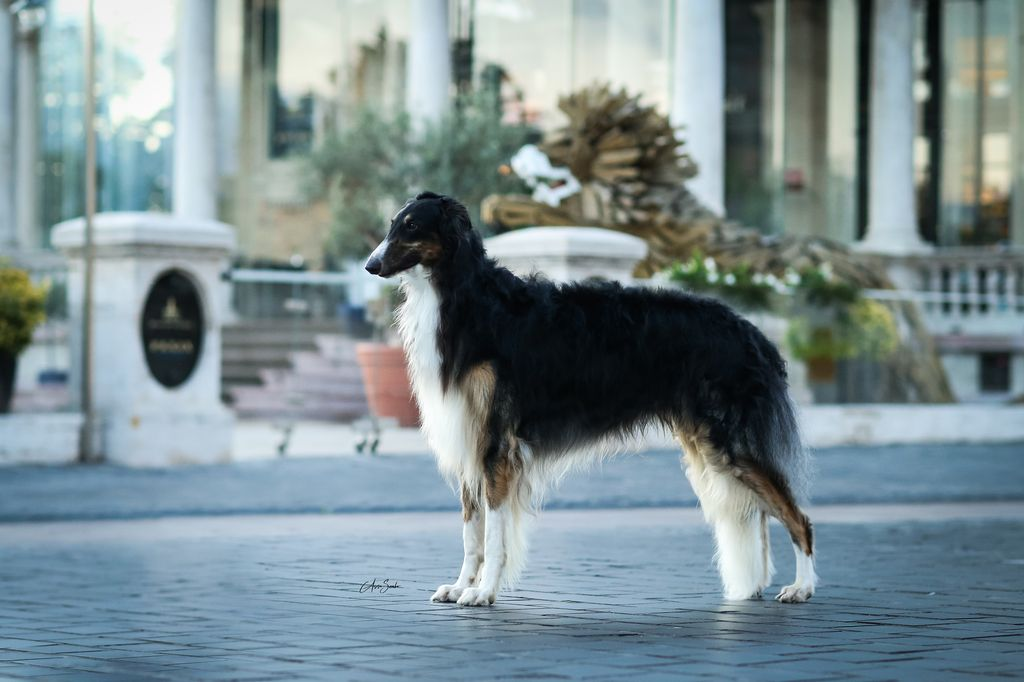borzoi: (340, 183, 837, 616)
